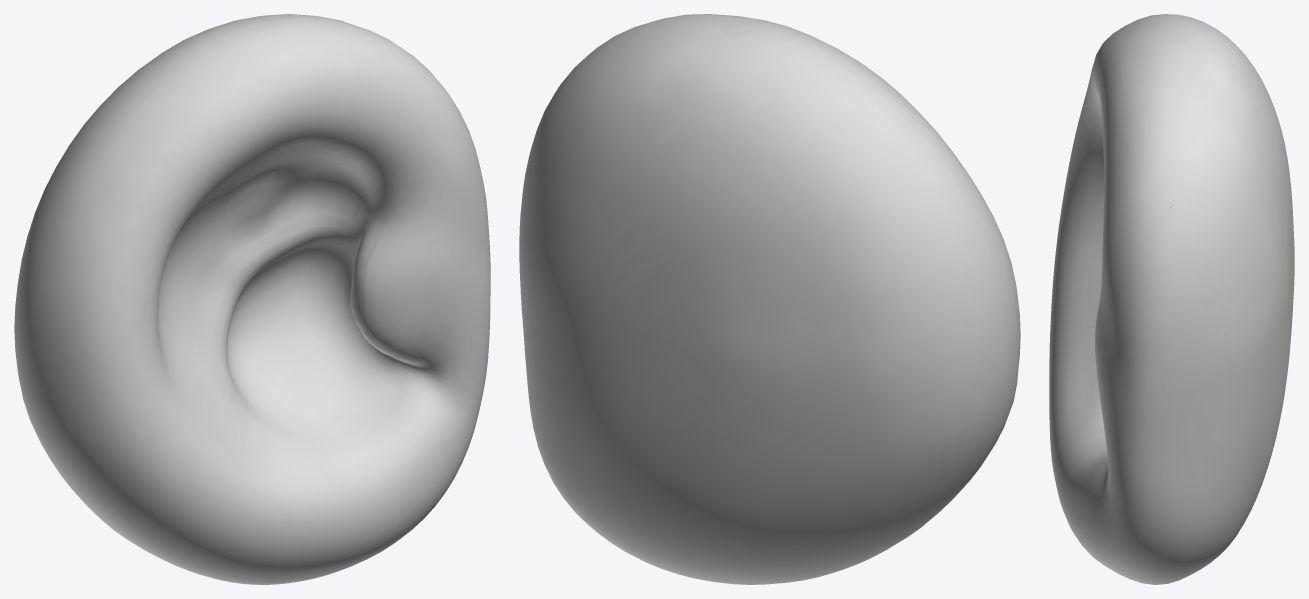
The model's file is base_basic_pbr.fbx.
3 renders of one model, left to right at view 1: azimuth 30°, elevation 25°; view 2: azimuth 150°, elevation 25°; view 3: azimuth 270°, elevation 25°, orthographic. The views are drawn at different scales.
Visible parts, largest first — view 1: model; view 2: model; view 3: model.
Boxes of the visible parts, bbox=[...] form: model: bbox=[14, 14, 490, 584]; model: bbox=[519, 14, 1020, 584]; model: bbox=[1049, 14, 1294, 584].
Size of the model in its own units: 166 by 190 by 82.56.
1 material, 1 textured.
